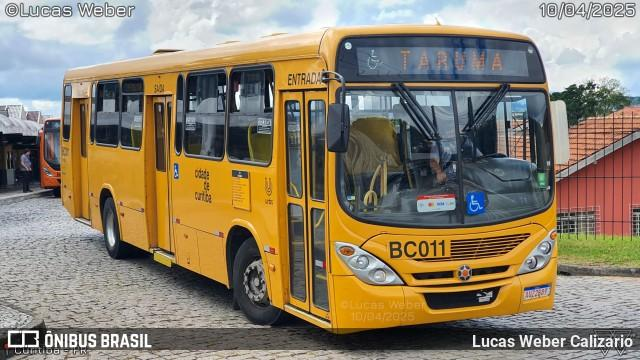TARUMA: (395, 47, 509, 75)
